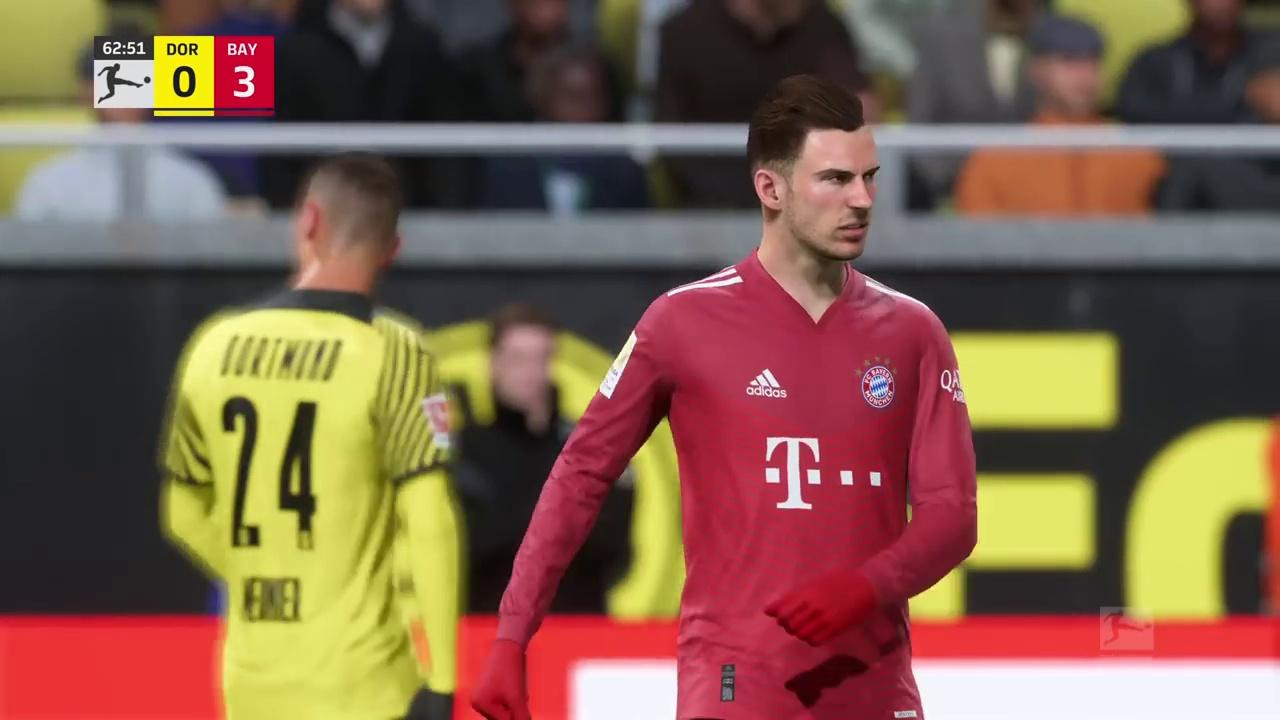scoreboard: (155, 34, 274, 119)
timestamp: (94, 35, 151, 60)
